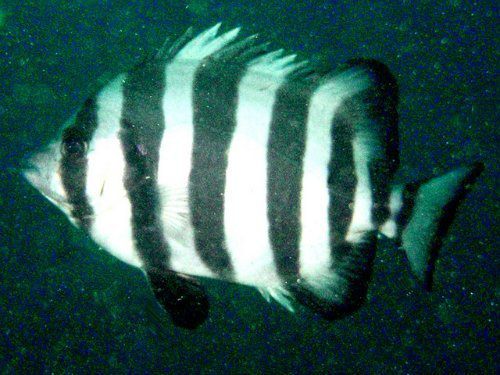azi: (27, 38, 428, 306)
